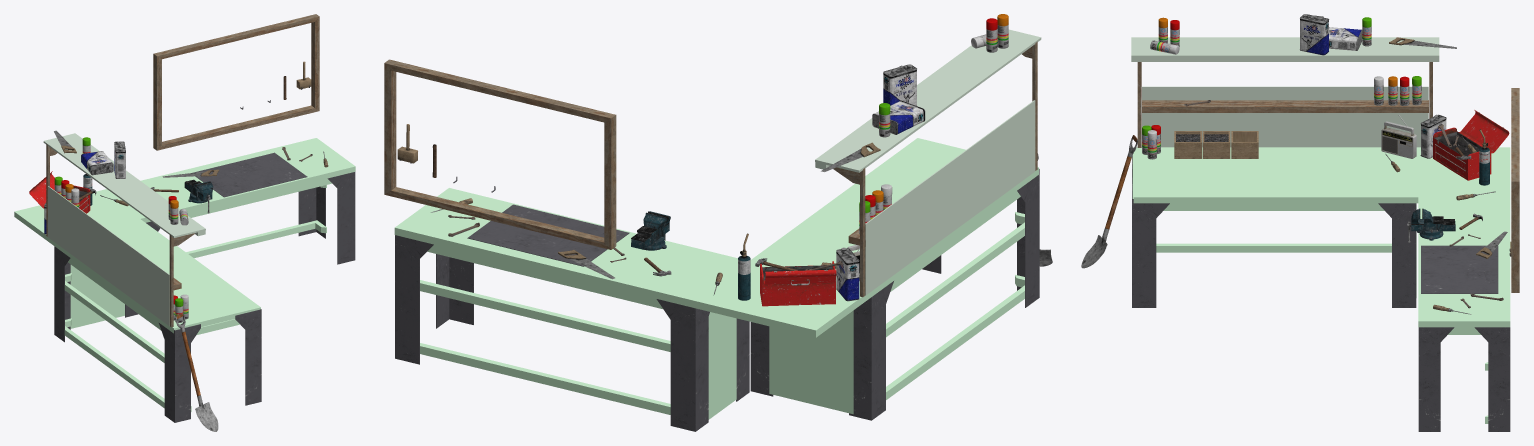
File: meme_desk.glb
The picture shows the model from 3 angles, left to right: view 1: azimuth 30°, elevation 25°; view 2: azimuth 150°, elevation 25°; view 3: azimuth 270°, elevation 25°; orthographic projection. The views are drawn at different scales.
Visible parts, largest first — view 1: DeskTop_10, DeskTopShelf1Supp_12, DeskF1_7, Object_42, Object_32, DeskF2_8, Cube_0, DeskBarr_6, DeskShelf1Supp2.002_24, DeskShelf1Supp2_9, DeskShelf1Supp2.001_23, Desk2Supp_5 (+7 smaller); view 2: DeskTop_10, DeskTopShelf1Supp_12, DeskF2_8, Object_42, DeskF1_7, DeskBarr_6, Object_32, Cube_0, DeskShelf1Supp2.003_25, DeskShelf1Supp2.002_24, ToolBox_115, DeskBarr.001_26 (+10 smaller); view 3: DeskTop_10, DeskTopShelf1Supp_12, DeskF1_7, DeskF2_8, Object_32, Cube_0, DeskTopShelf1_11, ToolBox_115, DeskShelf1Supp2_9, Object_42, Desk1Supp_4, DeskTopShelf2Supp_14 (+11 smaller).
Part boxes in pixels (<box>): DeskTop_10: <box>14,138,355,333</box>; DeskTopShelf1Supp_12: <box>48,186,169,325</box>; DeskF1_7: <box>54,246,261,422</box>; Object_42: <box>153,14,319,150</box>; Object_32: <box>43,133,205,237</box>; DeskF2_8: <box>146,172,355,264</box>; Cube_0: <box>192,152,307,197</box>; DeskBarr_6: <box>70,265,124,328</box>; DeskShelf1Supp2.002_24: <box>186,220,326,258</box>; DeskShelf1Supp2_9: <box>64,318,191,411</box>; DeskShelf1Supp2.001_23: <box>64,273,164,362</box>; Desk2Supp_5: <box>187,178,331,217</box>; DeskTop_10: <box>394,138,1038,337</box>; DeskTopShelf1Supp_12: <box>865,100,1035,295</box>; DeskF2_8: <box>395,235,749,431</box>; Object_42: <box>384,59,616,249</box>; DeskF1_7: <box>750,169,1039,420</box>; DeskBarr_6: <box>769,310,853,414</box>; Object_32: <box>815,29,1041,172</box>; Cube_0: <box>467,204,629,266</box>; DeskShelf1Supp2.003_25: <box>420,280,670,351</box>; DeskShelf1Supp2.002_24: <box>420,343,670,414</box>; ToolBox_115: <box>760,261,836,306</box>; DeskBarr.001_26: <box>708,312,736,419</box>; DeskTop_10: <box>1133,147,1510,327</box>; DeskTopShelf1Supp_12: <box>1142,86,1428,147</box>; DeskF1_7: <box>1132,153,1416,307</box>; DeskF2_8: <box>1418,327,1510,431</box>; Object_32: <box>1131,37,1439,57</box>; Cube_0: <box>1421,245,1498,293</box>; DeskTopShelf1_11: <box>1142,100,1428,112</box>; ToolBox_115: <box>1433,110,1509,180</box>; DeskShelf1Supp2_9: <box>1156,243,1391,252</box>; Object_42: <box>1511,88,1519,292</box>; Desk1Supp_4: <box>1132,153,1384,210</box>; DeskTopShelf2Supp_14: <box>1131,57,1439,61</box>.
Size of the model in its own units: 2.23 by 1.5 by 2.34.
35 materials, 33 textured.
